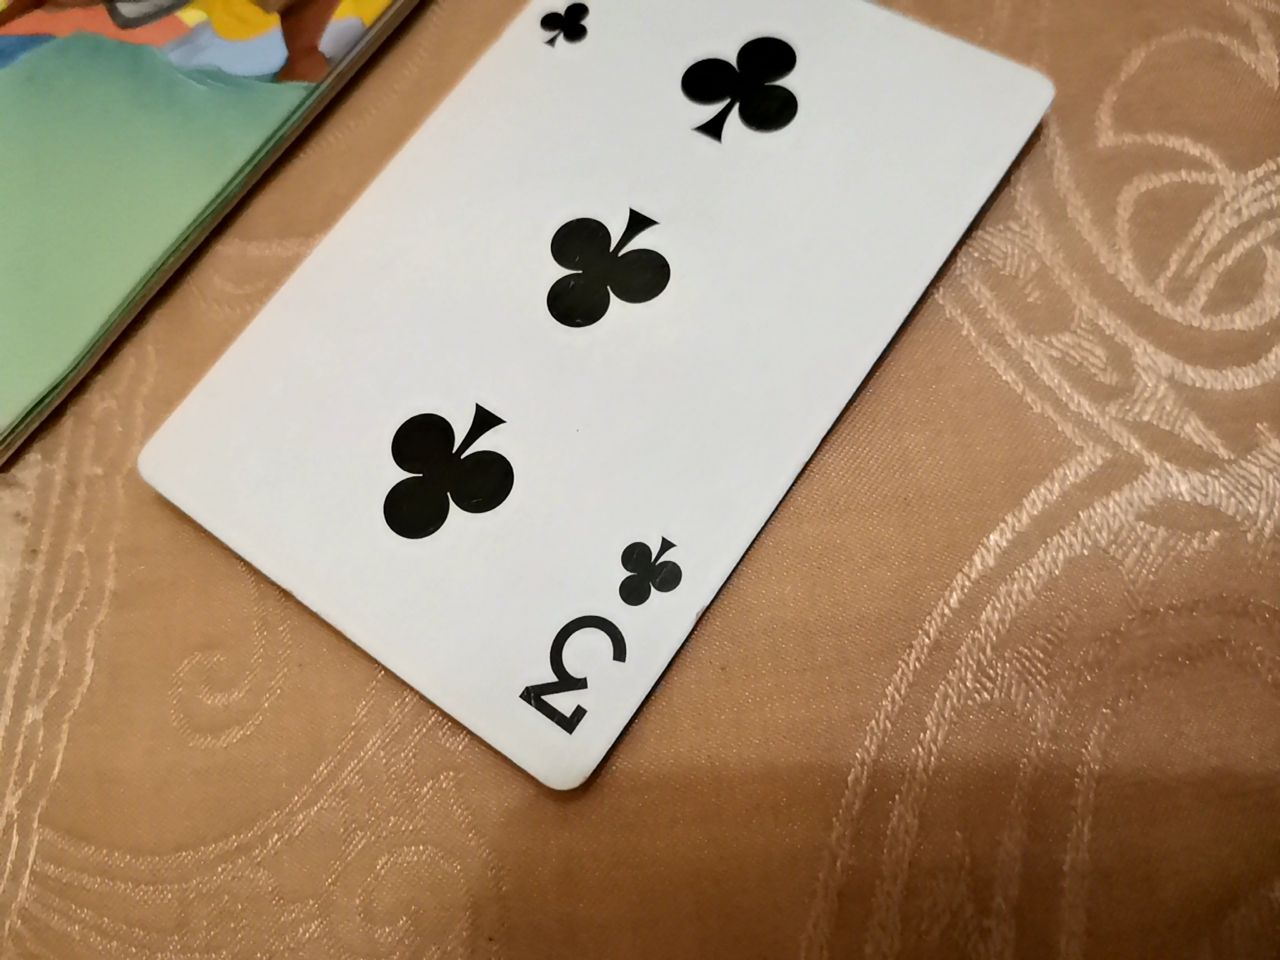mh 3: (127, 10, 1055, 830)
